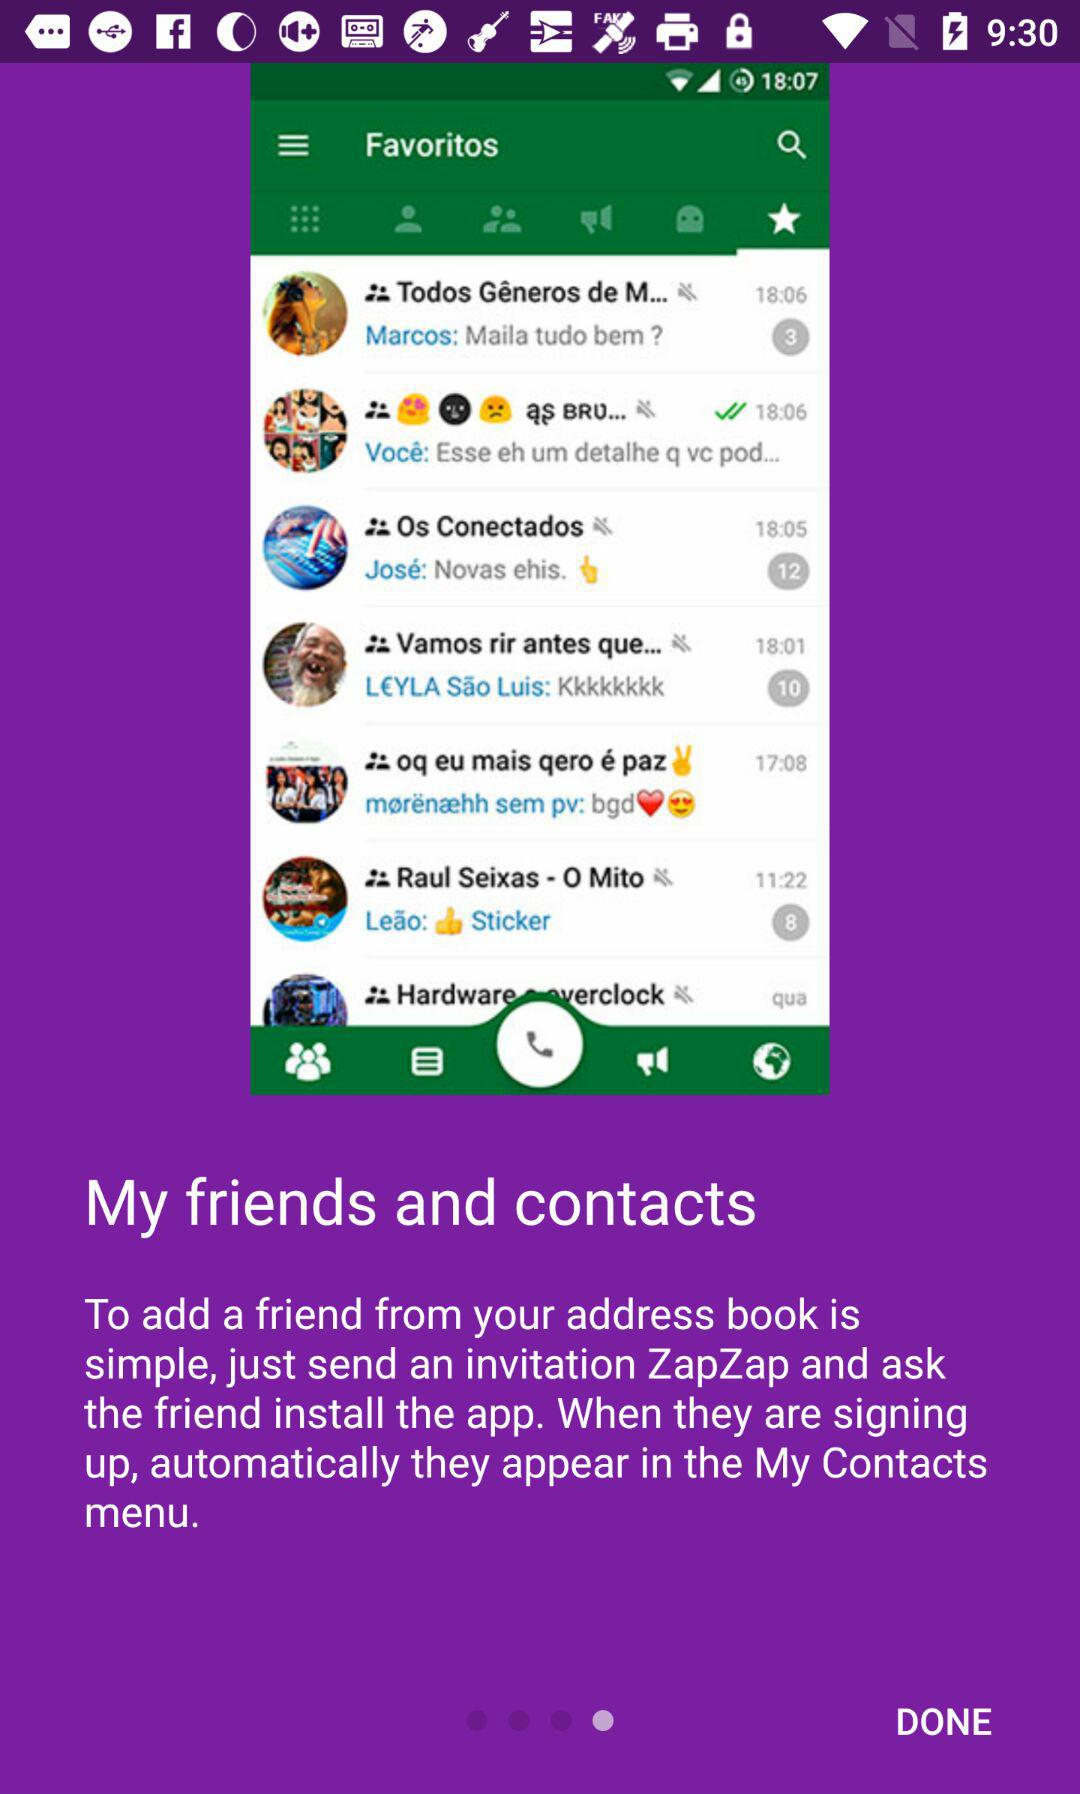Image: (249, 64, 828, 1094)
PageIndicator: (462, 1707, 618, 1736)
Text: (83, 1296, 989, 1530), (87, 1175, 755, 1240), (897, 1707, 994, 1738)
UpperTaskBar: (1, 1, 1080, 64)
